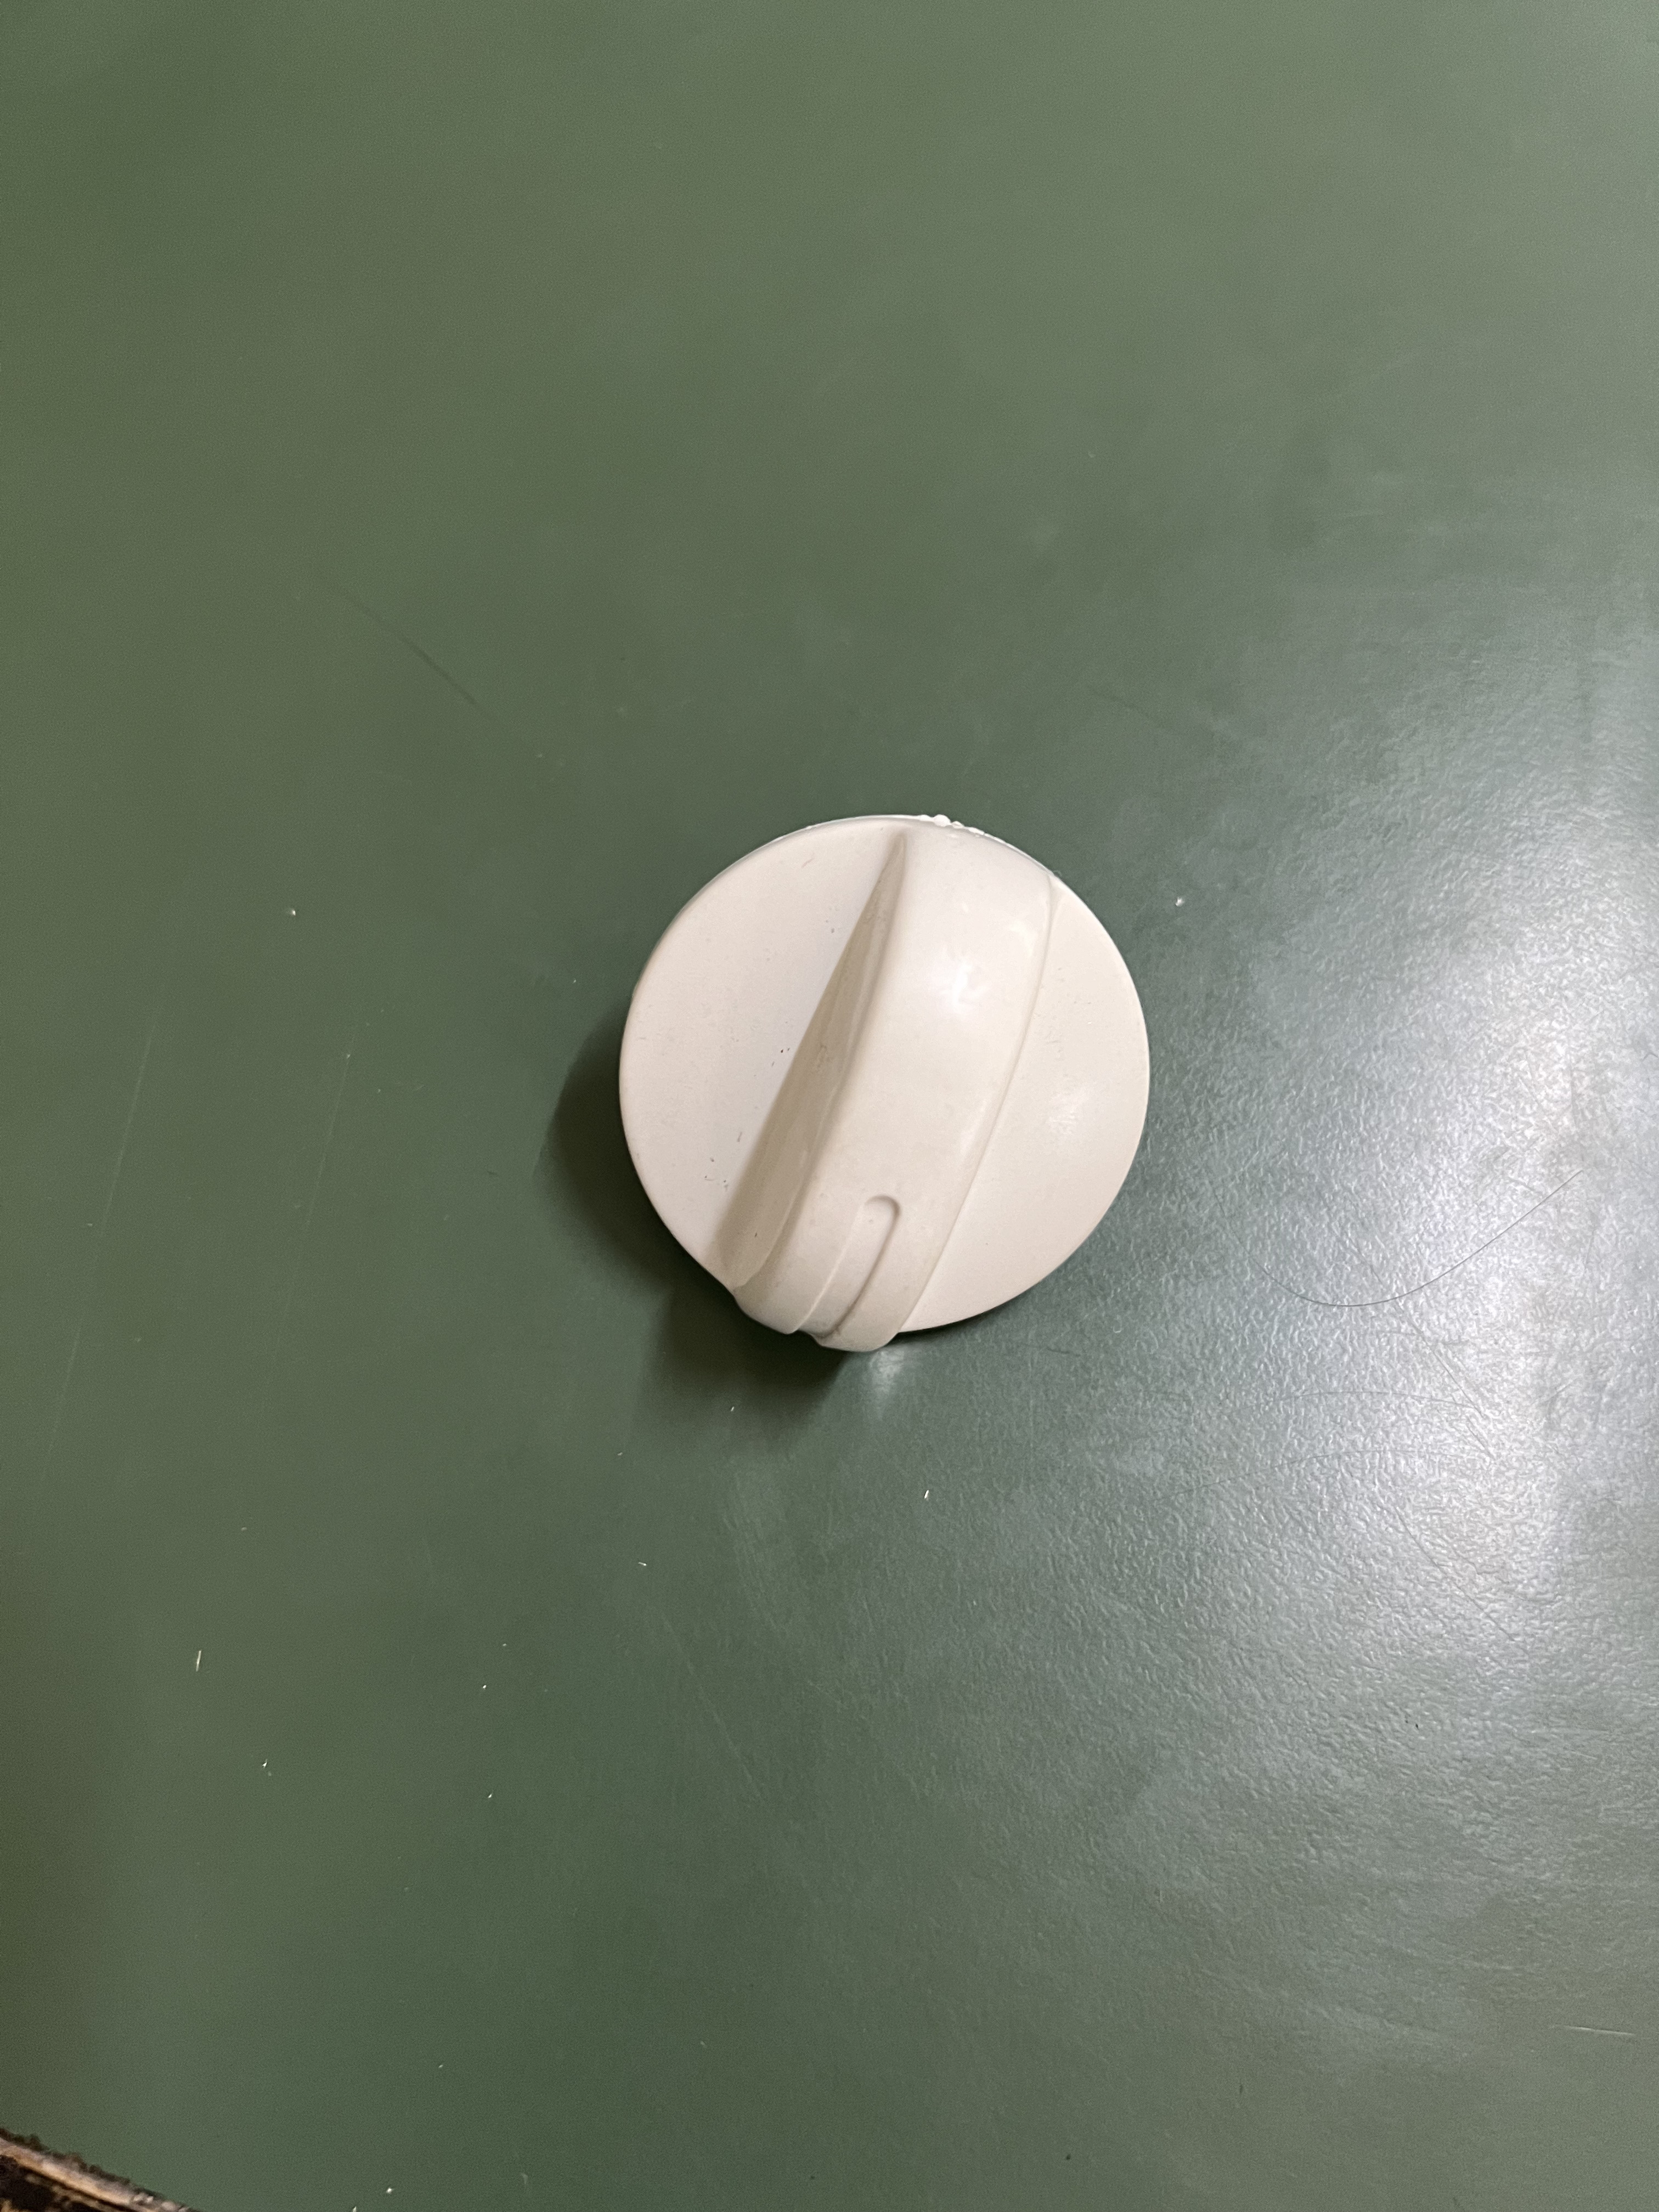regulator: (627, 836, 1148, 1327)
